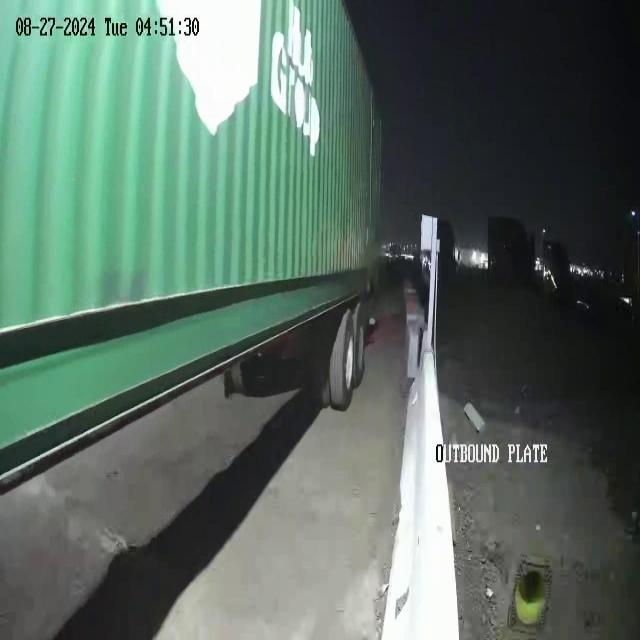TRUCK_OUT: (1, 1, 384, 487)
